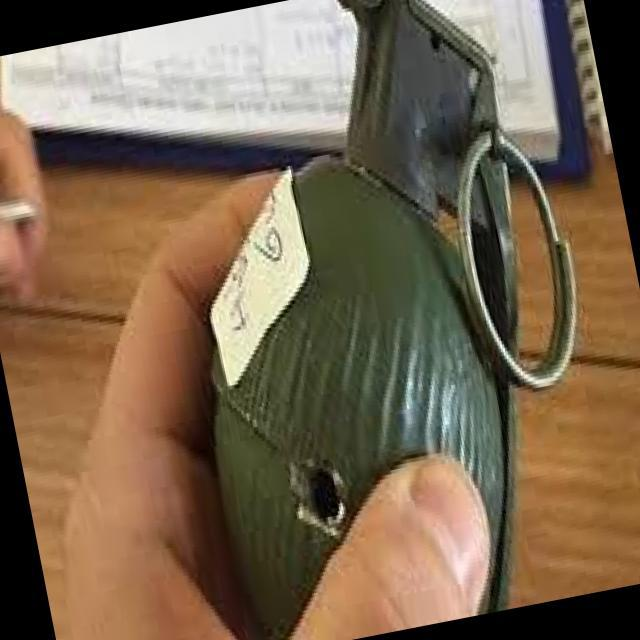grenade: (126, 0, 631, 635)
